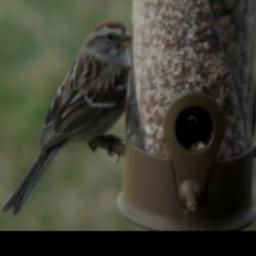Sparrow: (1, 18, 131, 216)
